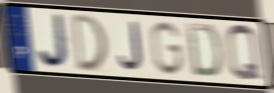D: (71, 11, 109, 73), (184, 21, 223, 80)
G: (148, 20, 185, 78)
J: (36, 12, 72, 71), (117, 21, 145, 73)
Q: (224, 22, 265, 85)
